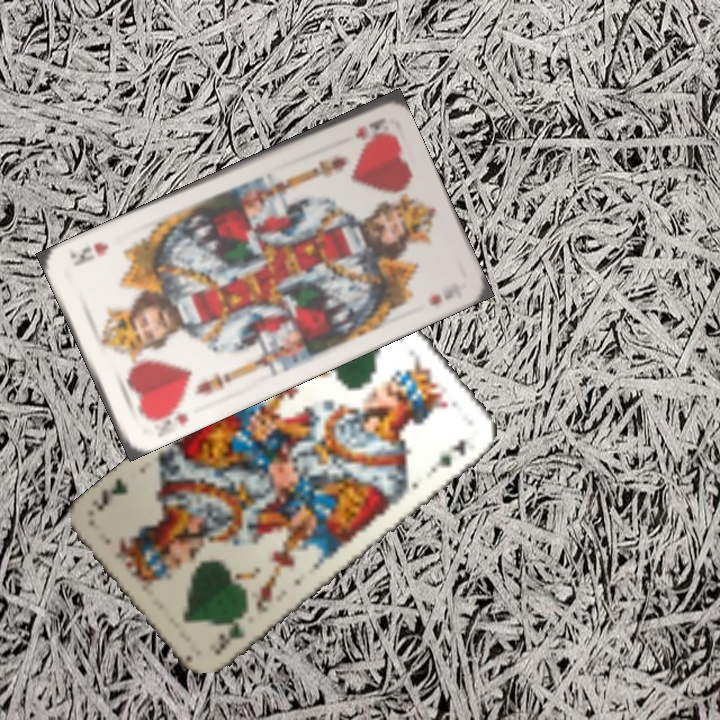GK: (204, 612, 249, 659)
HK: (143, 401, 191, 430), (351, 114, 387, 142)
